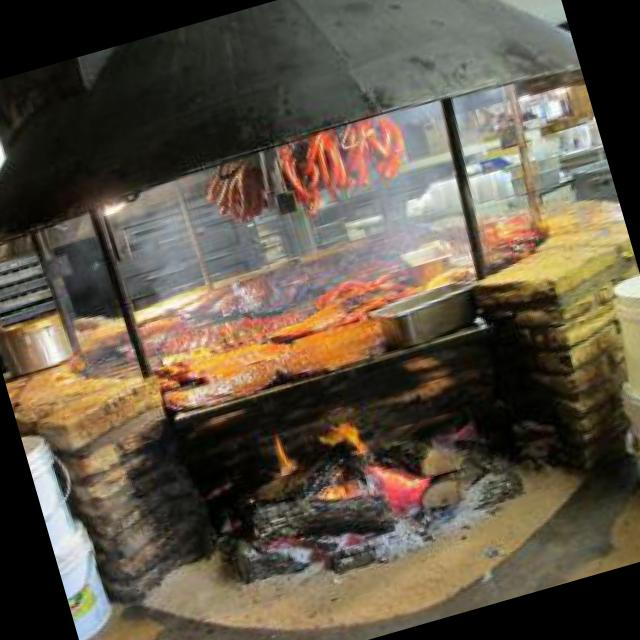fire: (246, 406, 393, 504)
